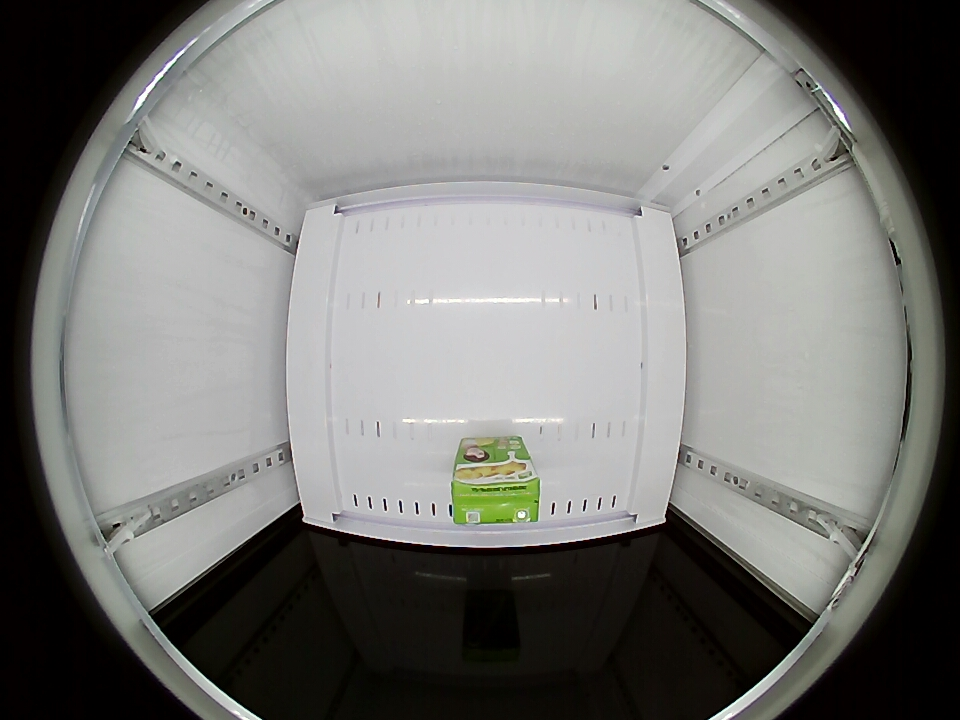mengniuzaocan: (450, 469, 540, 526)
